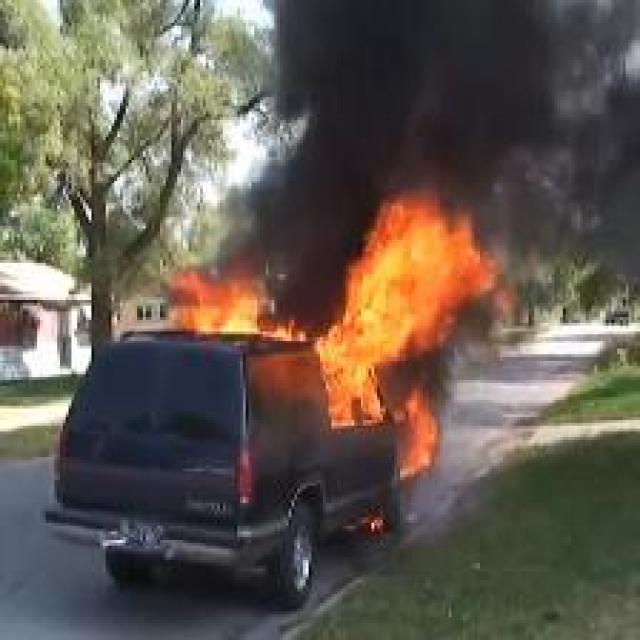fire: (179, 176, 455, 465)
smoke: (240, 0, 634, 317)
